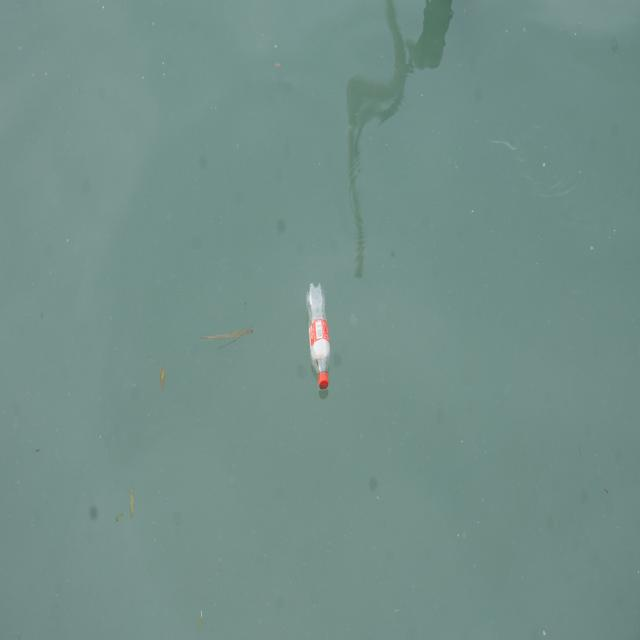Botol Plastik: (304, 279, 337, 396)
